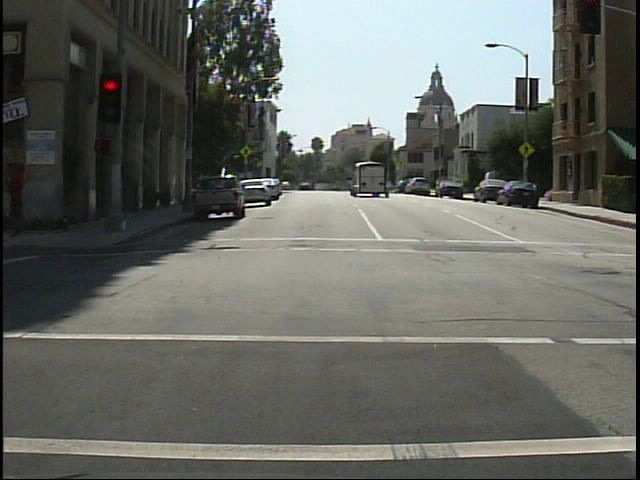person: (5, 156, 42, 238)
